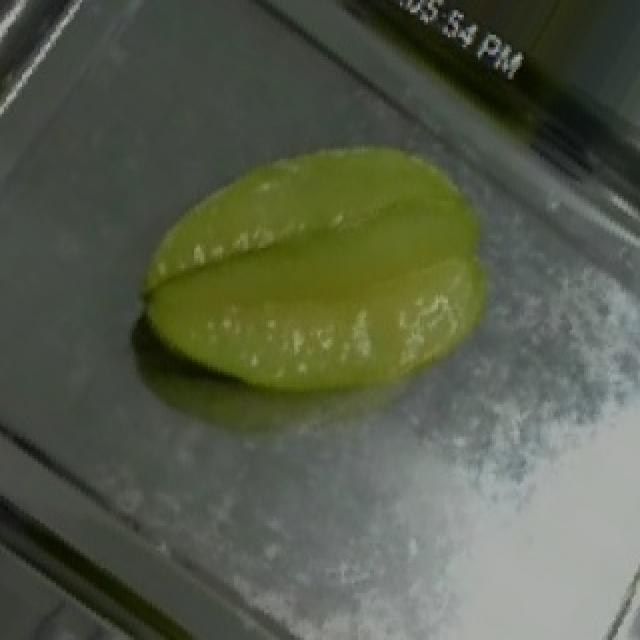fruit: (80, 67, 550, 464)
